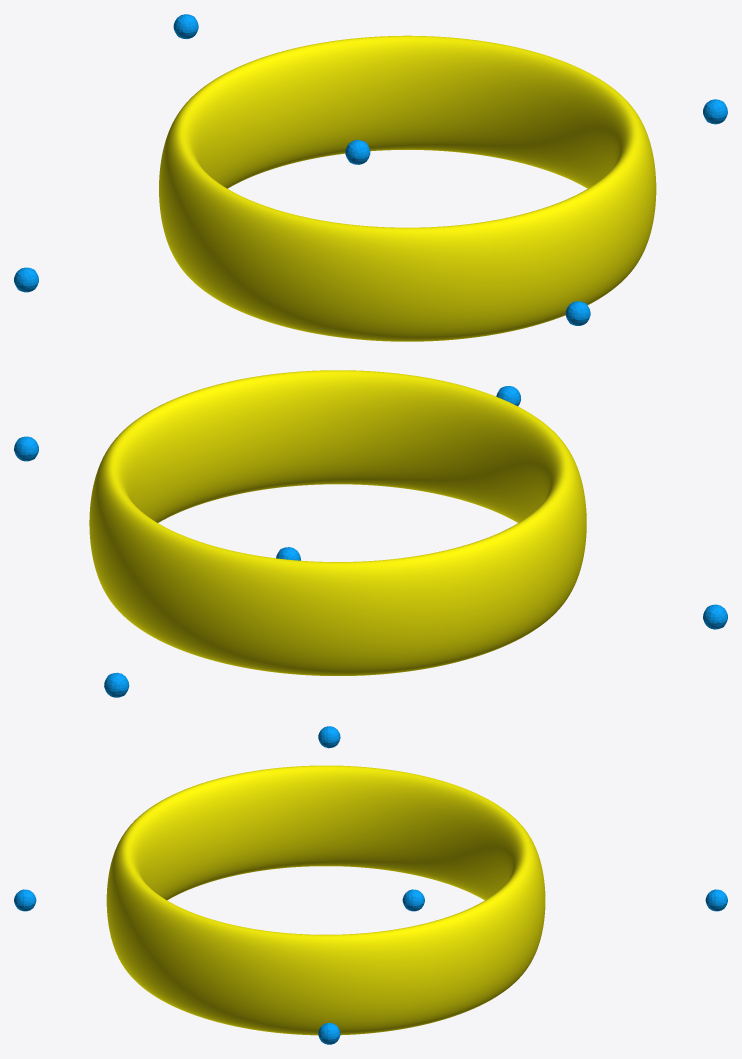
Rendered from surround_cyl_turquoise.gltf.
3 renders of one model, top to bottom at view 1: azimuth 30°, elevation 25°; view 2: azimuth 150°, elevation 25°; view 3: azimuth 270°, elevation 25°, orthographic. The views are drawn at different scales.
Parts seen in each view (by area): view 1: Torus; view 2: Torus; view 3: Torus.
Boxes of the visible parts, bbox=[...] form: Torus: bbox=[159, 35, 656, 341]; Torus: bbox=[89, 370, 586, 675]; Torus: bbox=[106, 765, 545, 1035].
Size of the model in its own units: 16.51 by 2.5 by 16.27.
